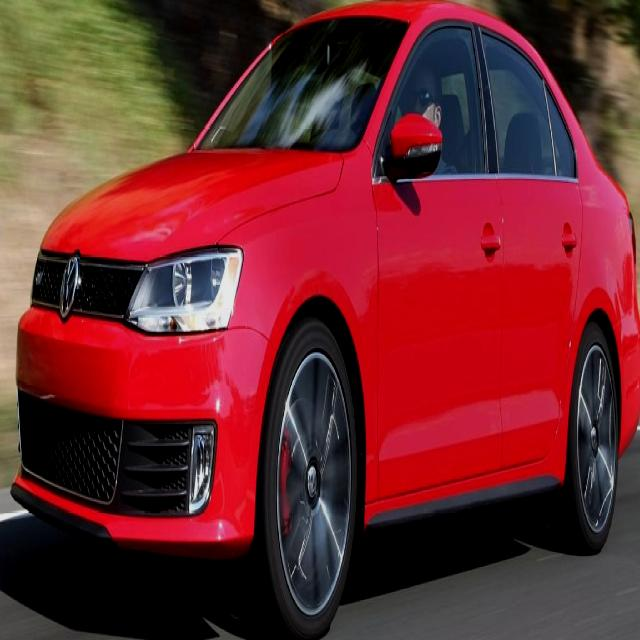red: (22, 10, 640, 573)
